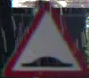Speed Breaker ahead: (2, 1, 86, 77)
